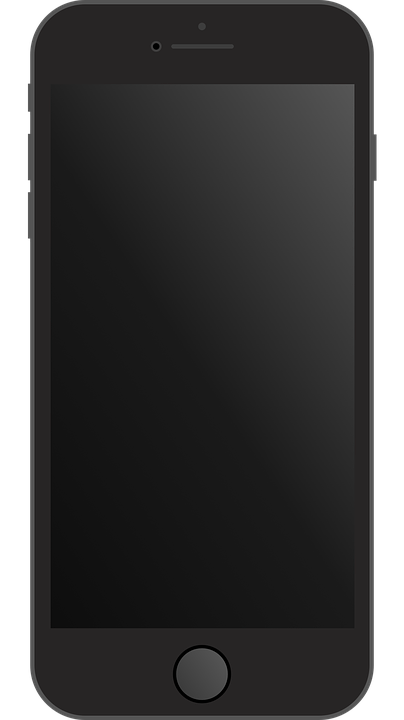Phone: (26, 1, 377, 720)
